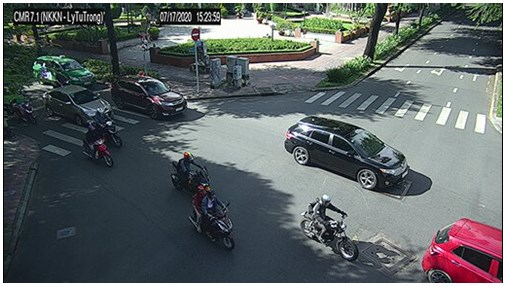xe_hoi: (285, 116, 409, 191), (422, 218, 502, 283), (111, 71, 186, 119), (44, 85, 114, 124)
xe_may: (300, 194, 361, 262), (191, 185, 236, 252), (171, 151, 212, 195), (84, 123, 113, 169), (93, 108, 123, 149), (13, 98, 35, 123)
xe_taxi: (31, 55, 96, 87)
